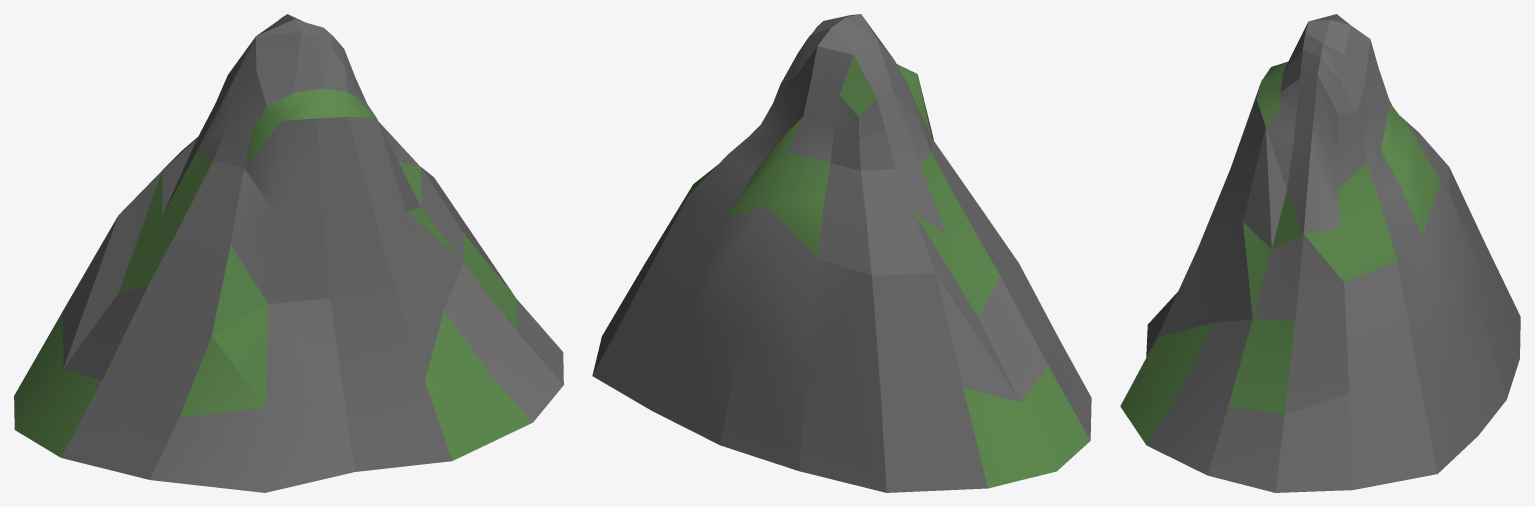
Rendered from mountain.glb.
3 views of the same model, side by side, from view 1: azimuth 30°, elevation 25°; view 2: azimuth 150°, elevation 25°; view 3: azimuth 270°, elevation 25° (orthographic). The views are drawn at different scales.
Visible parts, largest first — view 1: Object_2, Object_3; view 2: Object_2, Object_3; view 3: Object_2, Object_3.
Boxes of the visible parts, <box> form: Object_2: <box>61,14,563,492</box>; Object_3: <box>14,88,532,460</box>; Object_2: <box>592,14,1091,492</box>; Object_3: <box>687,55,1090,488</box>; Object_2: <box>1146,14,1520,492</box>; Object_3: <box>1120,61,1446,444</box>.
Bounding box in the file's own units: 75.58 × 55.55 × 55.55.
2 materials, 2 textured.
